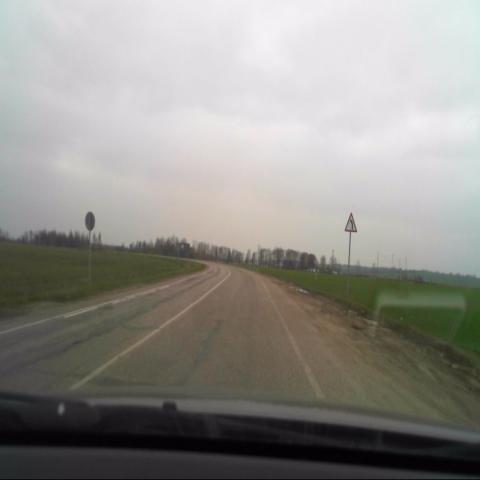1_11_1: (343, 211, 357, 232)
